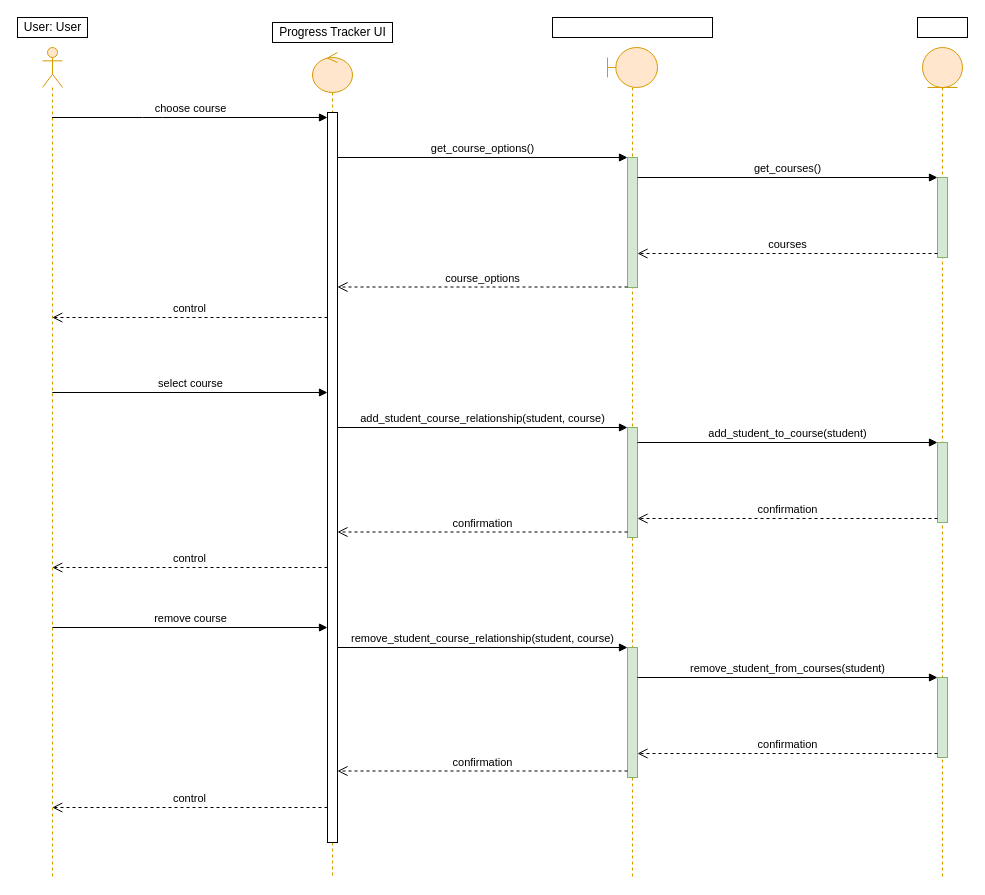
Some shapes in this 985 by 895 pixel diagram are drawn without their labels. The centre of each missing label's shape, as x and y in pixels:
Course: (942,27)
Progress Tracker Backend: (632,27)
